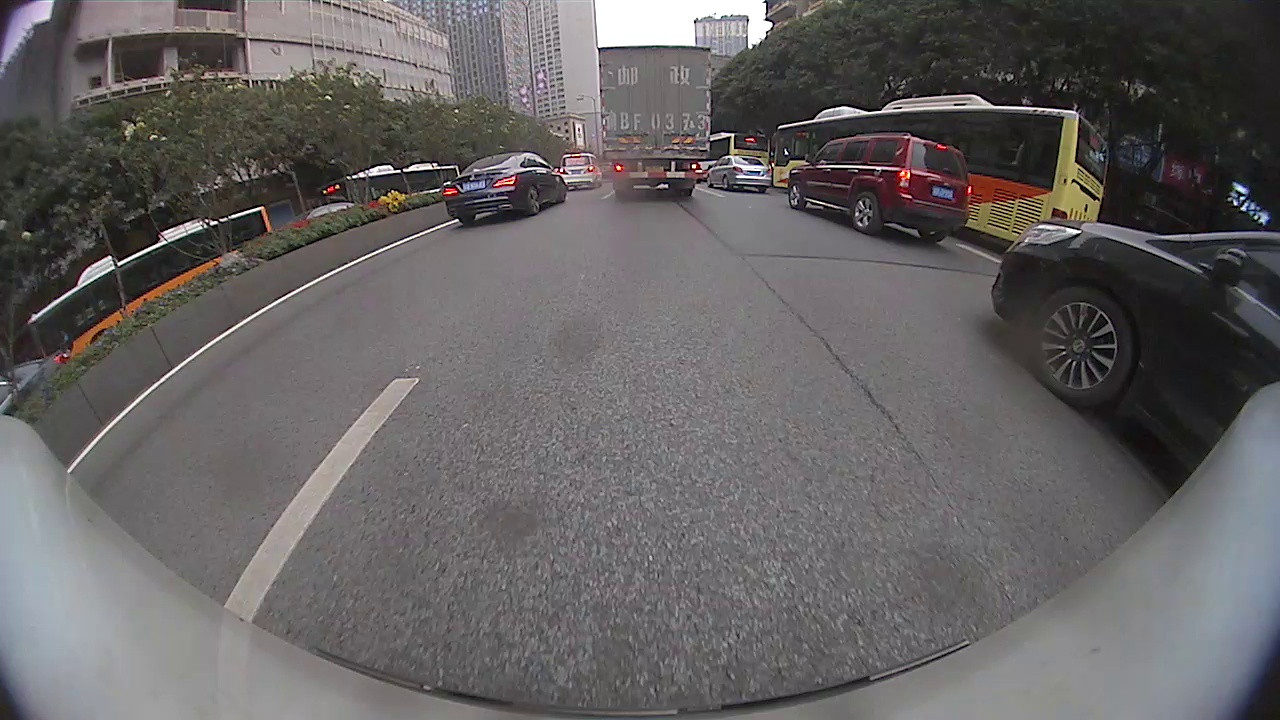bus: (778, 98, 1108, 246)
car: (991, 219, 1277, 478), (792, 132, 971, 243), (446, 155, 569, 227), (699, 158, 773, 192), (565, 155, 606, 193)
front: (1024, 285, 1139, 409), (788, 180, 807, 211)
rear: (850, 193, 883, 236), (523, 184, 541, 218)
truck: (596, 45, 714, 198)
